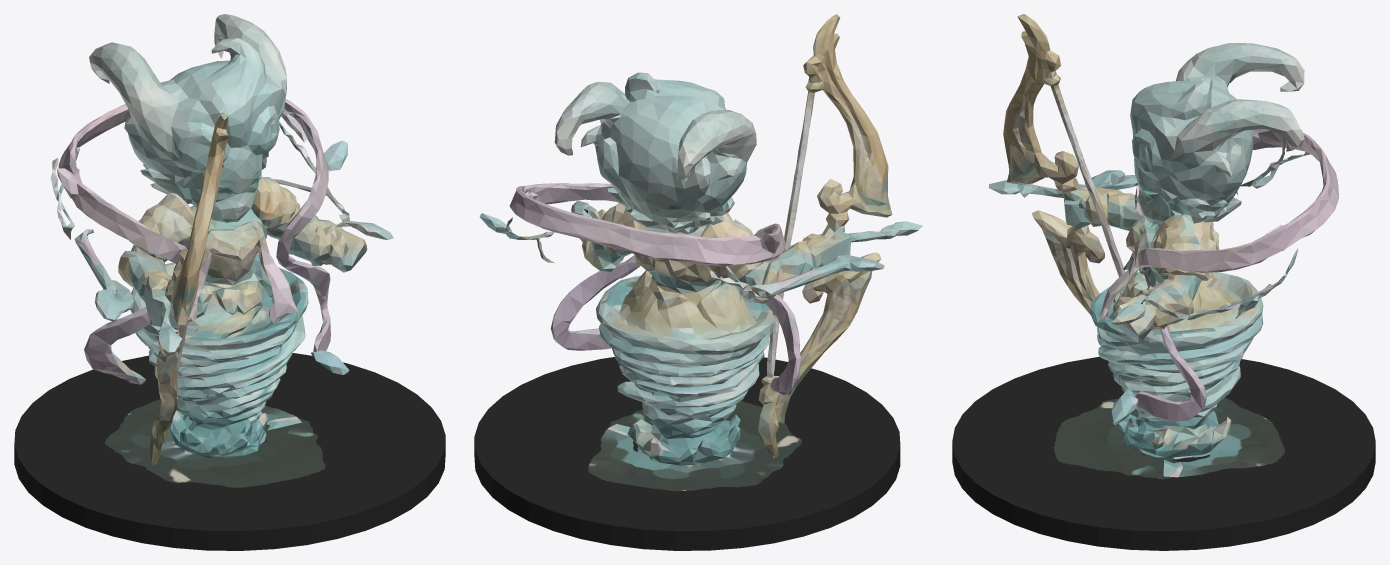
File: lrl-spirit-of-the-wind.glb
3 renders of one model, left to right at view 1: azimuth 30°, elevation 25°; view 2: azimuth 150°, elevation 25°; view 3: azimuth 270°, elevation 25°, orthographic.
Parts seen in each view (by area): view 1: figure, base; view 2: figure, base; view 3: figure, base.
Boxes of the visible parts, bbox=[...] form: figure: bbox=[50, 14, 393, 487]; base: bbox=[14, 353, 445, 550]; figure: bbox=[479, 14, 922, 491]; base: bbox=[474, 357, 900, 550]; figure: bbox=[988, 14, 1338, 479]; base: bbox=[952, 356, 1375, 550].
Size of the model in its own units: 2.36 by 2.52 by 2.36.
2 materials, 1 textured.
